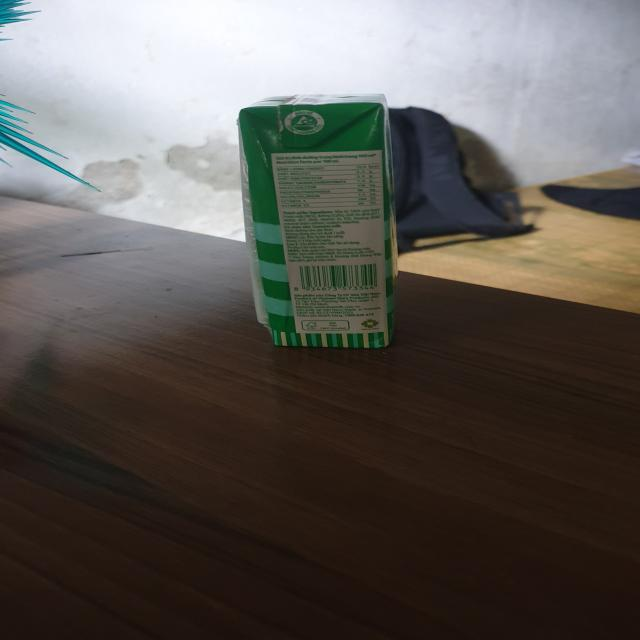Vina: (228, 92, 410, 353)
